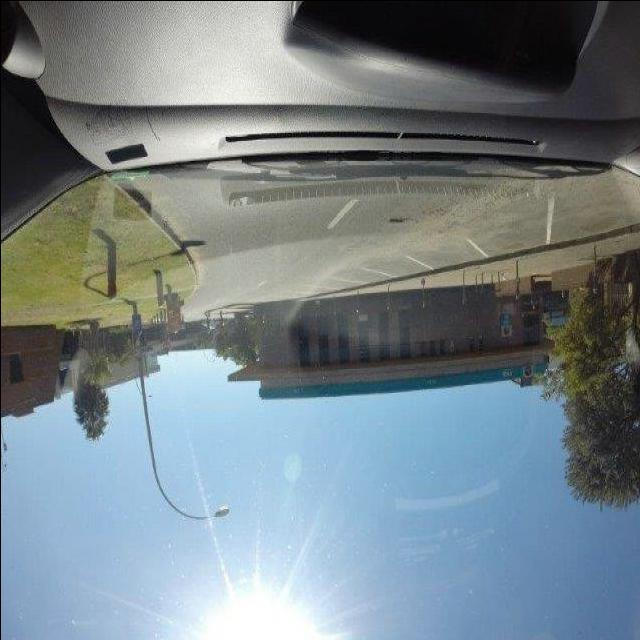lubang: (387, 213, 410, 226)
